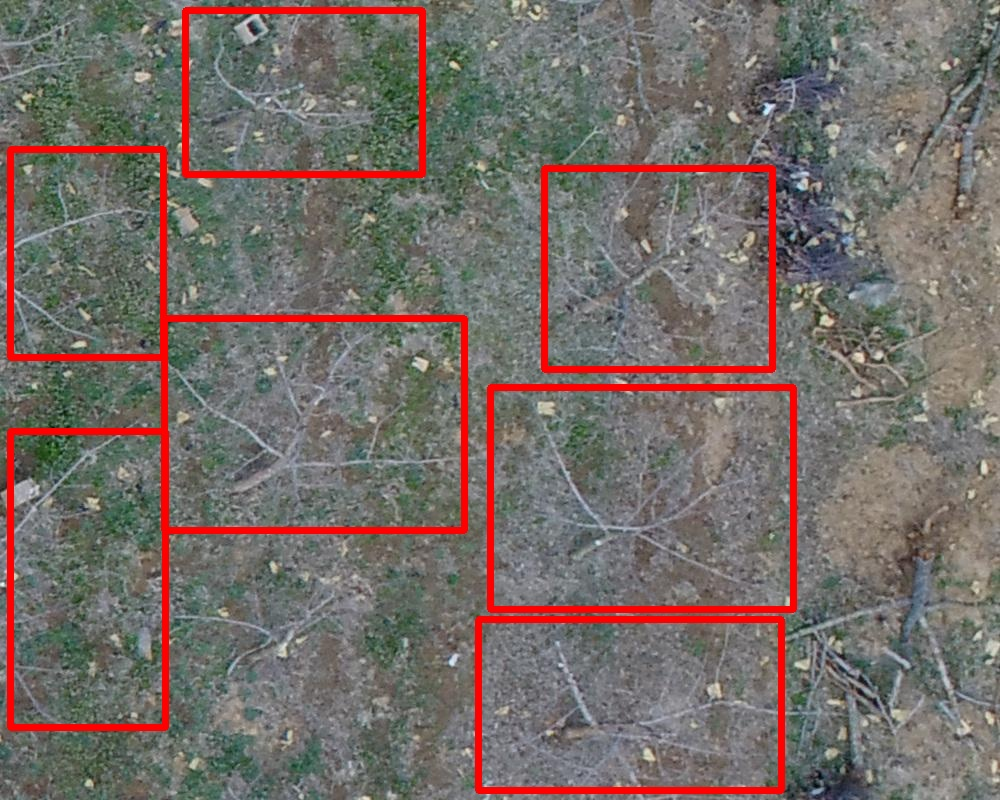apple: (490, 387, 793, 609), (164, 318, 464, 530), (478, 619, 781, 790), (10, 431, 165, 727), (544, 168, 772, 369), (185, 10, 422, 174), (10, 149, 163, 357)
